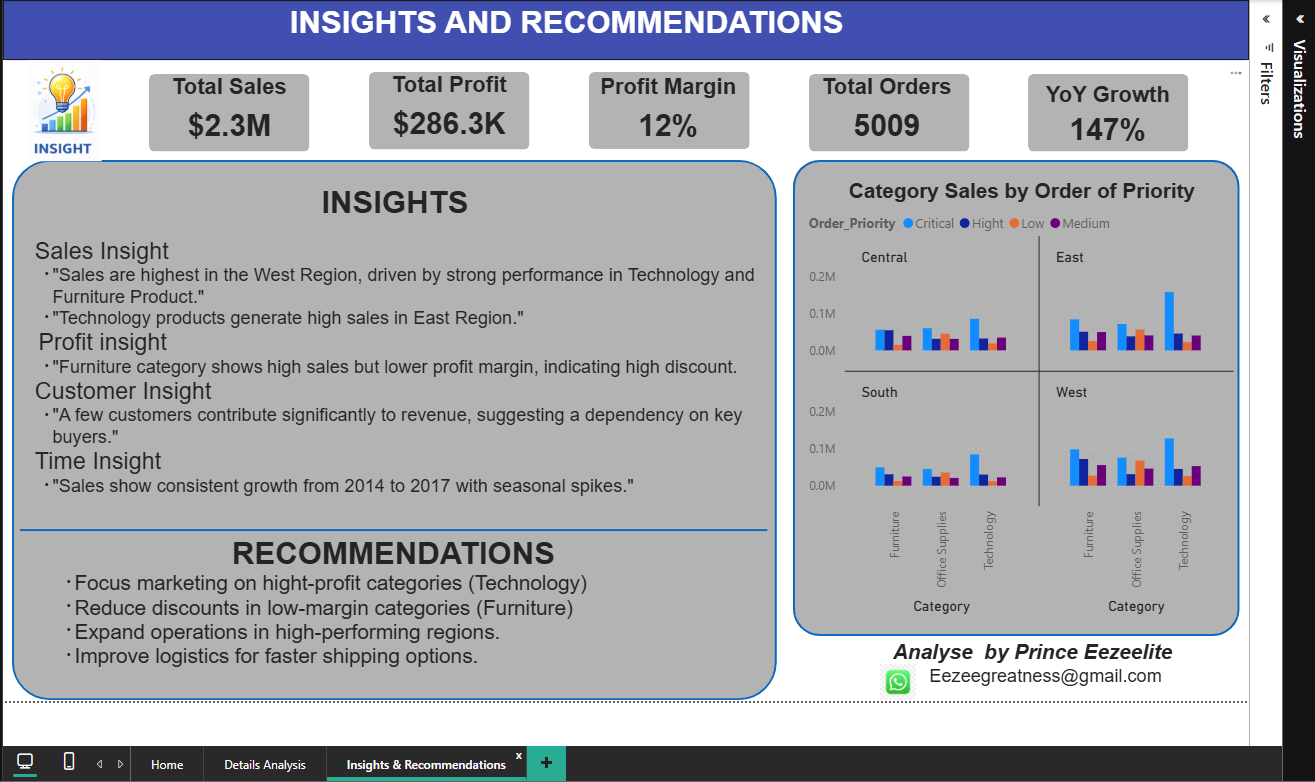

This screenshot's page, from the dashboard's own definition file:
{"tool":"powerbi","page":{"name":"Page 1","canvas":[1280,720],"ordinal":0},"visuals":[{"type":"shape","box":[949,483.4,318.6,221.1],"z":0},{"type":"tableEx","fields":{"Values":["Superstore_sales_dataset.Customer Name","Superstore_sales_dataset.City","Superstore_sales_dataset.Ship Mode","Superstore_sales_dataset.Sub-Category","Superstore_sales_dataset.Product ID","Sum(Superstore_sales_dataset.Quantity)","Sum(Superstore_sales_dataset. Profit )"]},"box":[502.7,200.5,765,271.9],"z":1000},{"type":"pieChart","title":"Total Profit  by Category","fields":{"Y":["Sum(Superstore_sales_dataset. Profit )"],"Category":["Superstore_sales_dataset.Category"]},"box":[953.1,490.3,309,208.8],"z":2000},{"type":"shape","box":[6.9,472.4,553.5,232.1],"z":3000},{"type":"shape","box":[576.8,483.4,357.1,221.1],"z":4000},{"type":"shape","box":[1.4,200.5,486.2,251.3],"z":5000},{"type":"shape","box":[0,0,1280,75.5],"z":6000},{"type":"shape","box":[6.9,87.9,144.2,100.3],"z":7000},{"type":"lineStackedColumnComboChart","title":"Regional Sales by States ","fields":{"Y":["Sum(Superstore_sales_dataset. Sales )"],"Series":["Superstore_sales_dataset.State"],"Category":["Superstore_sales_dataset.Region"]},"box":[5.5,211.5,476.6,229.4],"z":8000},{"type":"lineChart","title":"Yearly Sale by Months ","fields":{"Y":["Sum(Superstore_sales_dataset. Sales )"],"Category":["Superstore_sales_dataset.Order Date.Variation.Date Hierarchy.Year","Superstore_sales_dataset.Order Date.Variation.Date Hierarchy.Month"]},"box":[17.9,483.4,531.5,221.1],"z":9000},{"type":"clusteredColumnChart","title":"Category Sales by Order Priority","fields":{"Category":["Superstore_sales_dataset.Category"],"Y":["Sum(Superstore_sales_dataset. Sales )"],"Series":["Superstore_sales_dataset.Order_Priority"]},"box":[576.8,495.8,347.5,197.8],"z":10000},{"type":"shape","box":[160.7,87.9,144.2,100.3],"z":11000},{"type":"shape","box":[313.1,93.4,189.5,94.8],"z":12000},{"type":"shape","box":[513.6,93.4,200.5,100.3],"z":13000},{"type":"shape","box":[732,93.4,170.3,94.8],"z":14000},{"type":"shape","box":[911.9,93.4,168.9,94.8],"z":15000},{"type":"shape","box":[1094.6,93.4,157.9,94.8],"z":16000},{"type":"card","title":"YoY Growth","fields":{"Values":["Measures (2).YoY Growth"]},"box":[1094.6,98.9,157.9,89.3],"z":17000},{"type":"card","title":"Total Sales","fields":{"Values":["Measures (2).Total Sales"]},"box":[11,98.9,136,89.3],"z":18000},{"type":"card","title":"Total Profit","fields":{"Values":["Measures (2).Total Profit"]},"box":[160.7,98.9,144.2,89.3],"z":19000},{"type":"card","title":"Sales Last Year","fields":{"Values":["Measures (2).Sales Last Year"]},"box":[313.1,98.9,189.5,83.8],"z":20000},{"type":"card","title":"Profit Margin","fields":{"Values":["Measures (2).Profit Ma rgin"]},"box":[513.6,96.1,200.5,94.8],"z":21000},{"type":"card","title":"Total Orders","fields":{"Values":["Measures (2).Total Orders"]},"box":[732,98.9,170.3,79.7],"z":22000},{"type":"card","title":"Monthly Sales","fields":{"Values":["Measures (2).Monthly Sales"]},"box":[911.9,98.9,168.9,83.8],"z":23000},{"type":"textbox","box":[82.4,2.7,1113.8,67.3],"z":24000}]}

Visuals, with their boxes on the page's 1280x720 design canvas (x1, y1, x2, y2). These are canvas units, not pixel positions in the 1315x782 screenshot, which may show the page scaled, cropped or inside an application window:
shape: {"left": 949, "top": 483, "right": 1268, "bottom": 704}
tableEx - Superstore_sales_dataset.Customer Name x Superstore_sales_dataset.City: {"left": 503, "top": 200, "right": 1268, "bottom": 472}
"Total Profit  by Category" pieChart: {"left": 953, "top": 490, "right": 1262, "bottom": 699}
shape: {"left": 7, "top": 472, "right": 560, "bottom": 704}
shape: {"left": 577, "top": 483, "right": 934, "bottom": 704}
shape: {"left": 1, "top": 200, "right": 488, "bottom": 452}
shape: {"left": 0, "top": 0, "right": 1280, "bottom": 76}
shape: {"left": 7, "top": 88, "right": 151, "bottom": 188}
"Regional Sales by States " lineStackedColumnComboChart: {"left": 6, "top": 212, "right": 482, "bottom": 441}
"Yearly Sale by Months " lineChart: {"left": 18, "top": 483, "right": 549, "bottom": 704}
"Category Sales by Order Priority" clusteredColumnChart: {"left": 577, "top": 496, "right": 924, "bottom": 694}
shape: {"left": 161, "top": 88, "right": 305, "bottom": 188}
shape: {"left": 313, "top": 93, "right": 503, "bottom": 188}
shape: {"left": 514, "top": 93, "right": 714, "bottom": 194}
shape: {"left": 732, "top": 93, "right": 902, "bottom": 188}
shape: {"left": 912, "top": 93, "right": 1081, "bottom": 188}
shape: {"left": 1095, "top": 93, "right": 1252, "bottom": 188}
"YoY Growth" card: {"left": 1095, "top": 99, "right": 1252, "bottom": 188}
"Total Sales" card: {"left": 11, "top": 99, "right": 147, "bottom": 188}
"Total Profit" card: {"left": 161, "top": 99, "right": 305, "bottom": 188}
"Sales Last Year" card: {"left": 313, "top": 99, "right": 503, "bottom": 183}
"Profit Margin" card: {"left": 514, "top": 96, "right": 714, "bottom": 191}
"Total Orders" card: {"left": 732, "top": 99, "right": 902, "bottom": 179}
"Monthly Sales" card: {"left": 912, "top": 99, "right": 1081, "bottom": 183}
textbox: {"left": 82, "top": 3, "right": 1196, "bottom": 70}
